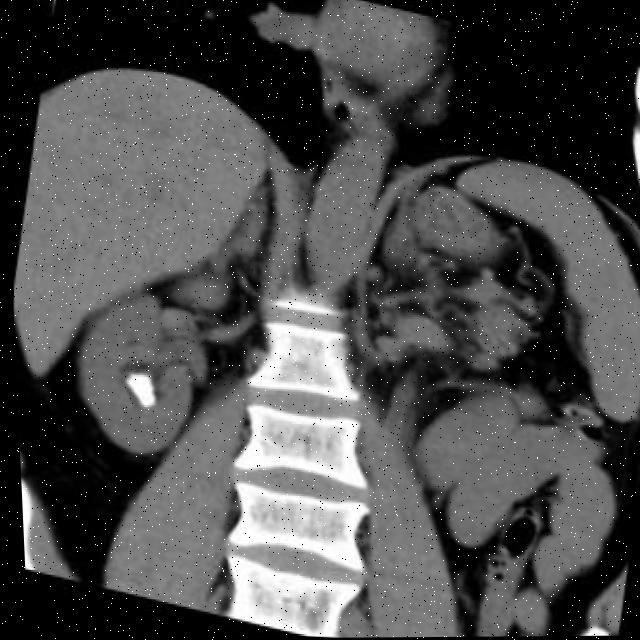Tas_Var: (114, 364, 169, 417)
